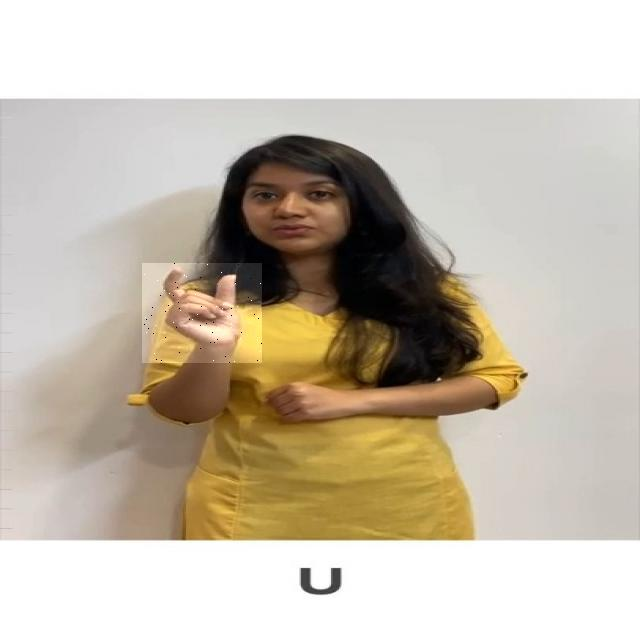U: (142, 263, 262, 363)
